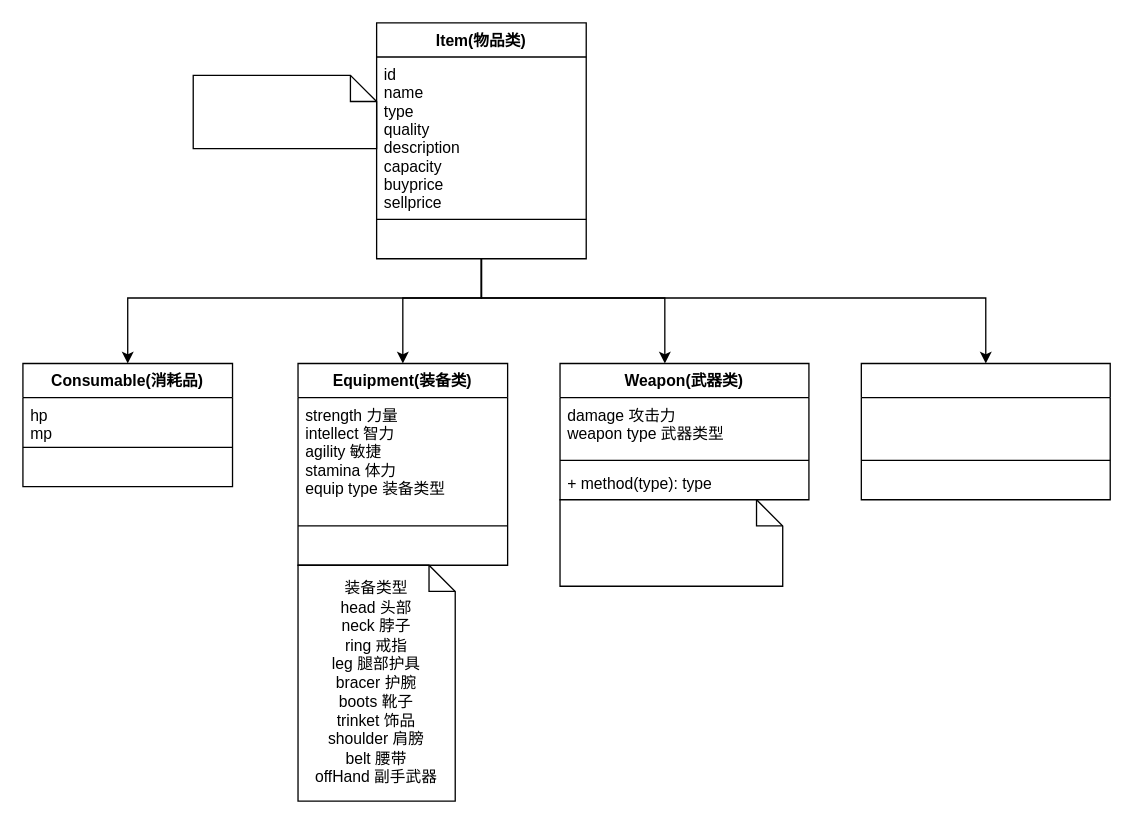
This 1133x824 diagram has some shape labels left out. Each missing label, with the centre of its shape:
"Material(材料类)" belongs at (985,431).
"weapon type 武器类型 offHand mainHand" belongs at (671,542).
"物品类型 消耗品 装备 武器 材料" belongs at (284,111).
